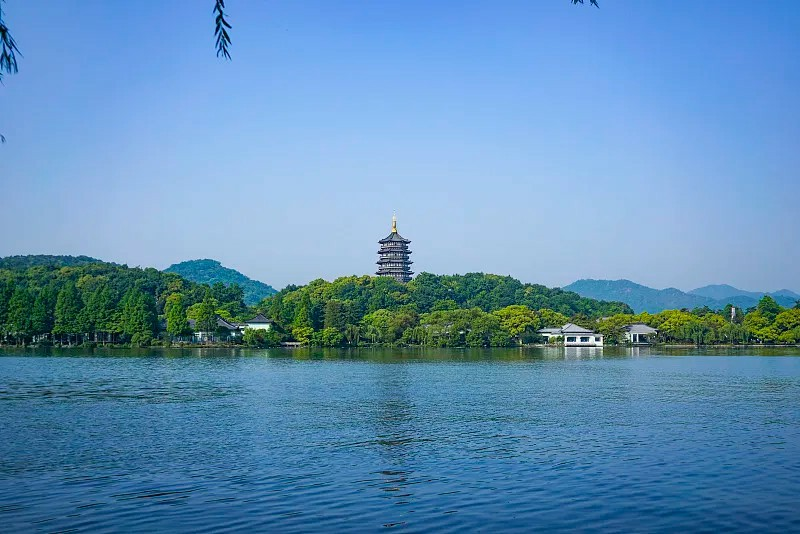Leifeng: (375, 210, 415, 284)
